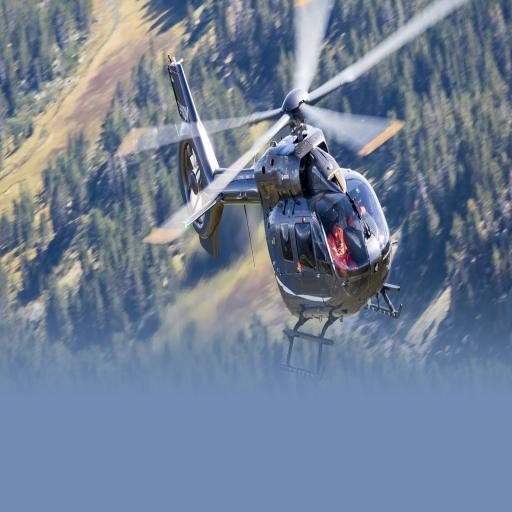helicopter: (129, 1, 461, 384)
